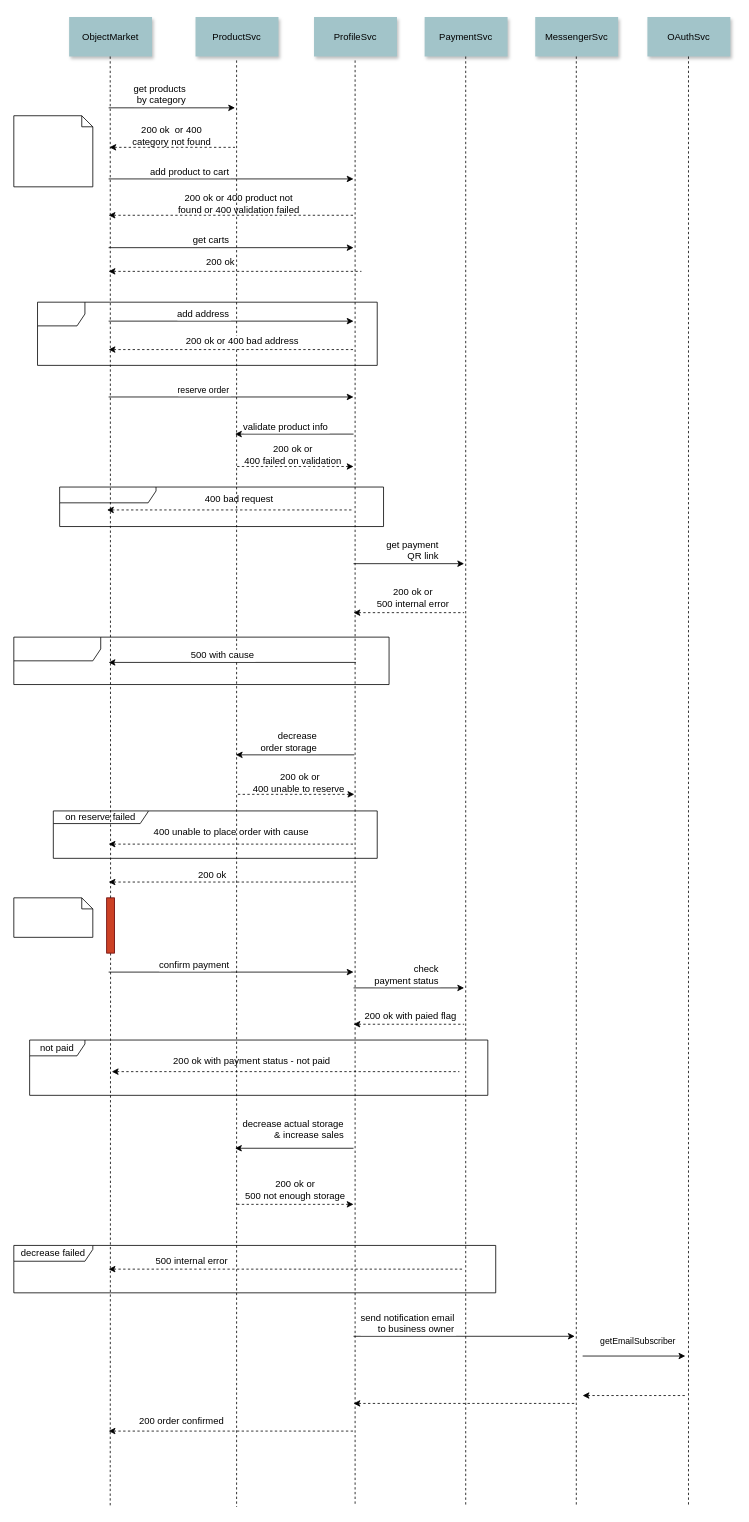
Some shapes in this 749 by 1522 pixel diagram are drawn without their labels. Here are the shapes that lost their labels. From the top down, the centre of each, then its label:
At point (53, 151): "Response Code 200: ok 400: bad request 500: internal server error".
At point (207, 333): "If no address".
At point (221, 506): "on validation failed".
At point (201, 660): "if payment QR link failed".
At point (53, 917): "User scan QR code & pay at third party tool".
